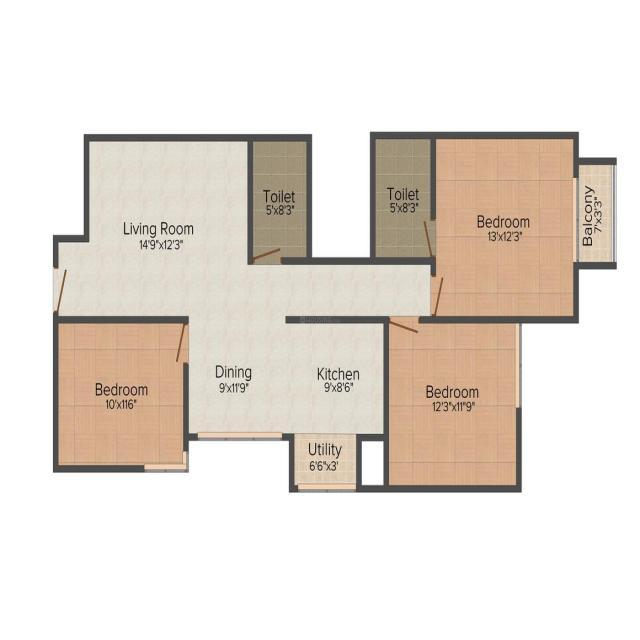Balcony-Sitout: (575, 158, 618, 271)
Bedroom: (431, 136, 579, 323), (381, 318, 524, 493), (53, 313, 195, 478)
Dining: (183, 315, 298, 442)
Kitchen: (283, 314, 385, 441)
Living: (83, 134, 251, 323)
Toilet: (367, 131, 437, 266), (248, 132, 313, 265)
Utility: (287, 433, 364, 493)
